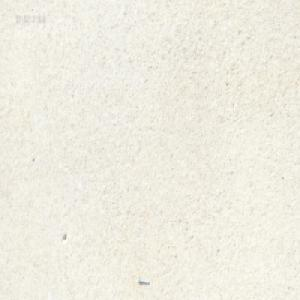Nail: (138, 276, 149, 284)
